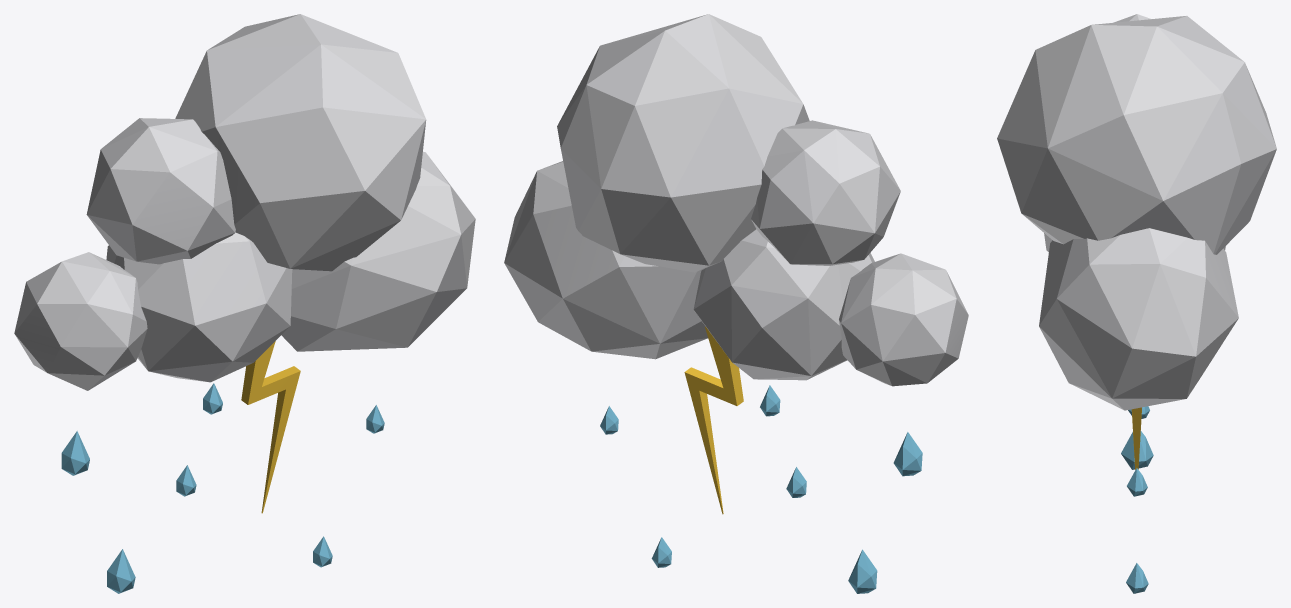
The model's file is stylize_cloud_11.fbx.
3 renders of one model, left to right at view 1: azimuth 30°, elevation 25°; view 2: azimuth 150°, elevation 25°; view 3: azimuth 270°, elevation 25°, orthographic. The views are drawn at different scales.
Parts seen in each view (by area): view 1: cloud_91; view 2: cloud_91; view 3: cloud_91.
Boxes of the visible parts, x1,y1,x2,y2 form: cloud_91: (14,14,475,593); cloud_91: (504,14,968,593); cloud_91: (997,14,1276,593).
Size of the model in its own units: 389 by 456 by 207.
